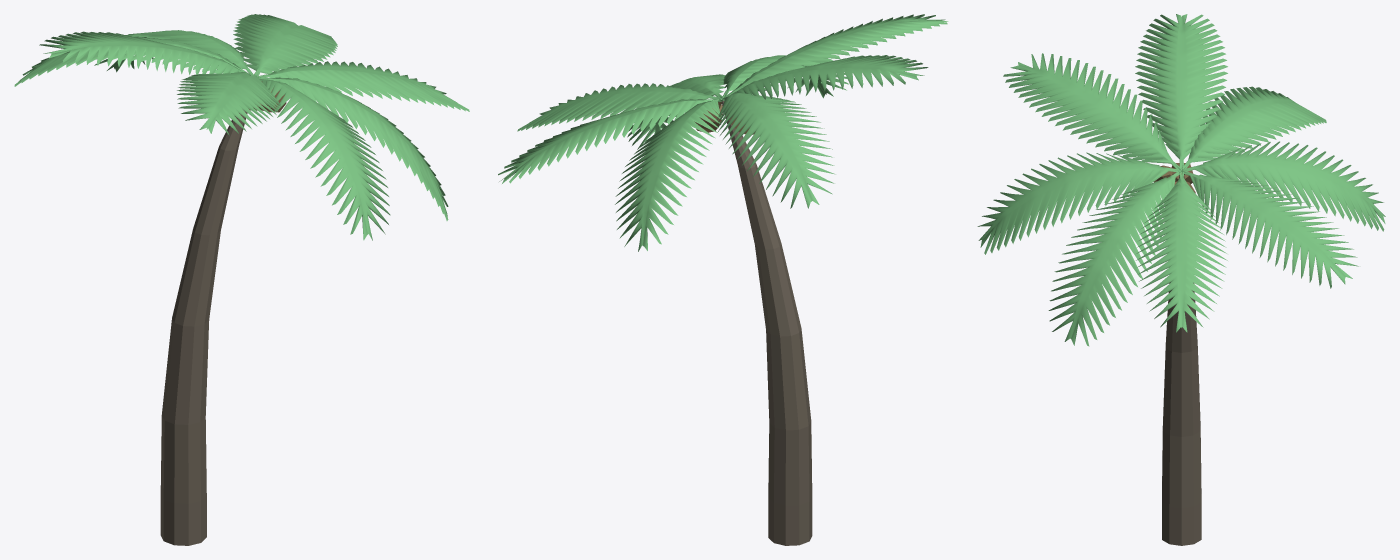
Rendered from Coconut Tress.fbx.
3 views of the same model, side by side, from view 1: azimuth 30°, elevation 25°; view 2: azimuth 150°, elevation 25°; view 3: azimuth 270°, elevation 25° (orthographic). The views are drawn at different scales.
Parts seen in each view (by area): view 1: pSphere4; view 2: pSphere4; view 3: pSphere4.
Part boxes in pixels (x1=…): pSphere4: x1=14, y1=14, x2=469, y2=545; pSphere4: x1=498, y1=14, x2=948, y2=545; pSphere4: x1=977, y1=14, x2=1385, y2=545.
Bounding box in the file's own units: 15.66 × 18.61 × 14.83.
